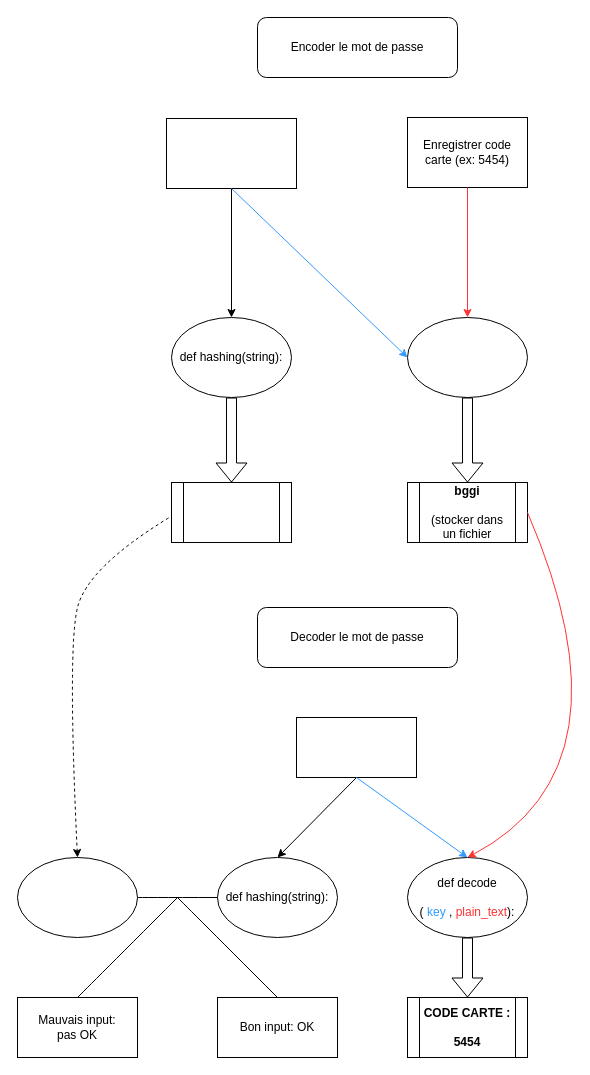
The diagram is 590 pixels wide and 1075 high, and some of its shapes have lost their labels. The shapes that lost their labels are listed below. From the top down, each one's centre as x and y in pixels, then its label:
At point (231, 153): "Mot de passe pour retrouver le code (ex: banane )".
At point (467, 357): "def encode ( key , plain_text ):".
At point (231, 512): "-32549350 (stocker dans un fichier)".
At point (356, 747): "Input vocal de l'utilisateur (ex : banane )".
At point (77, 897): "Mot de passe haché stocké dans fichier".
